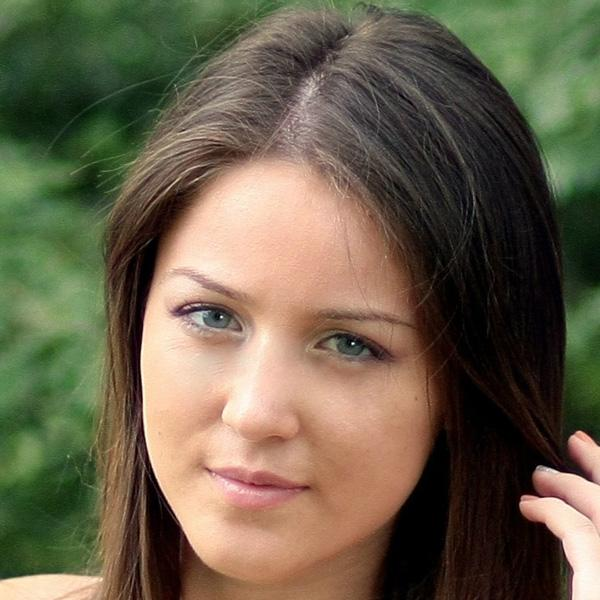Eyes: (298, 315, 394, 378), (163, 290, 253, 349)
